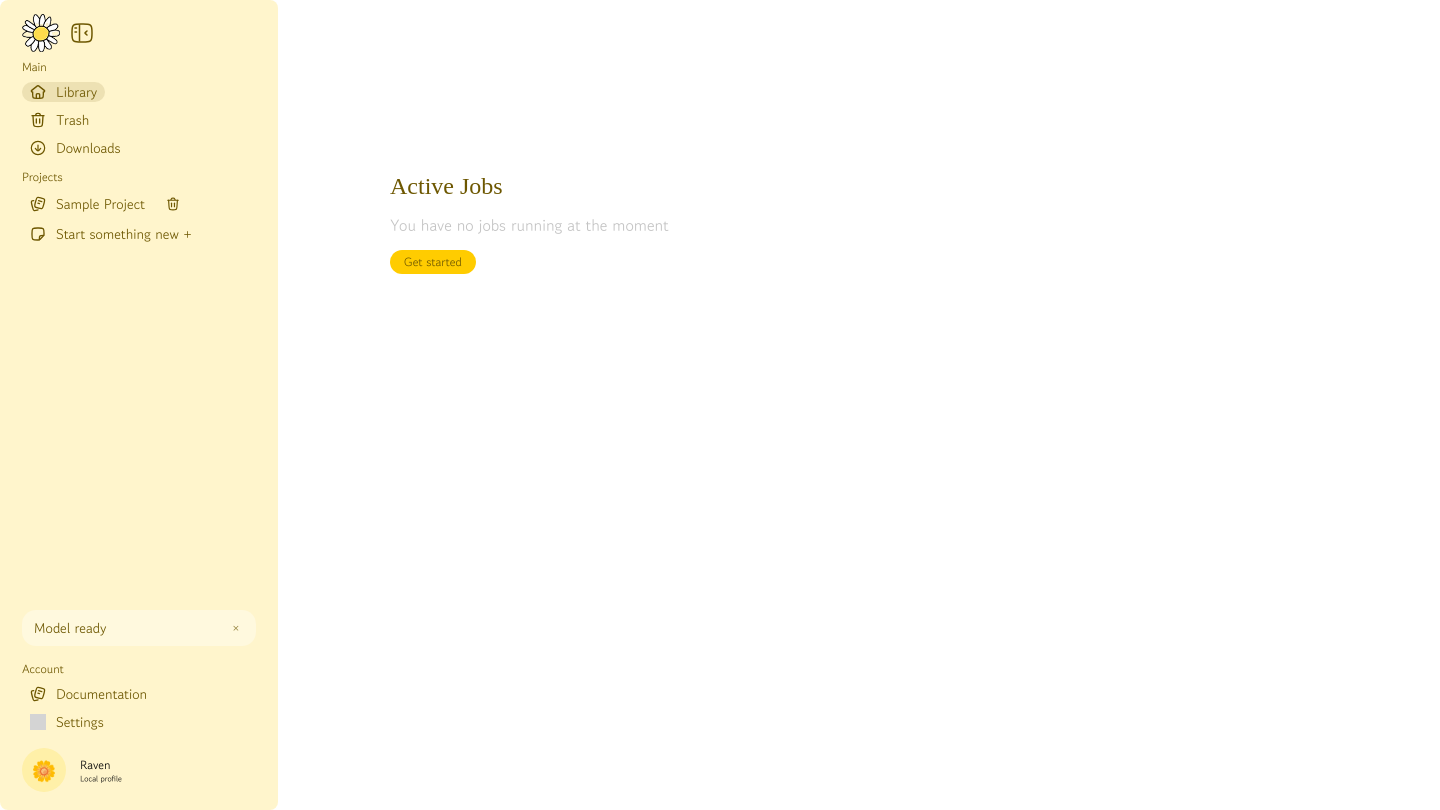
Create project flow › redirects to the project welcome upload route on success
Click the button "Get started" at (433, 262), box [390,250,476,274]
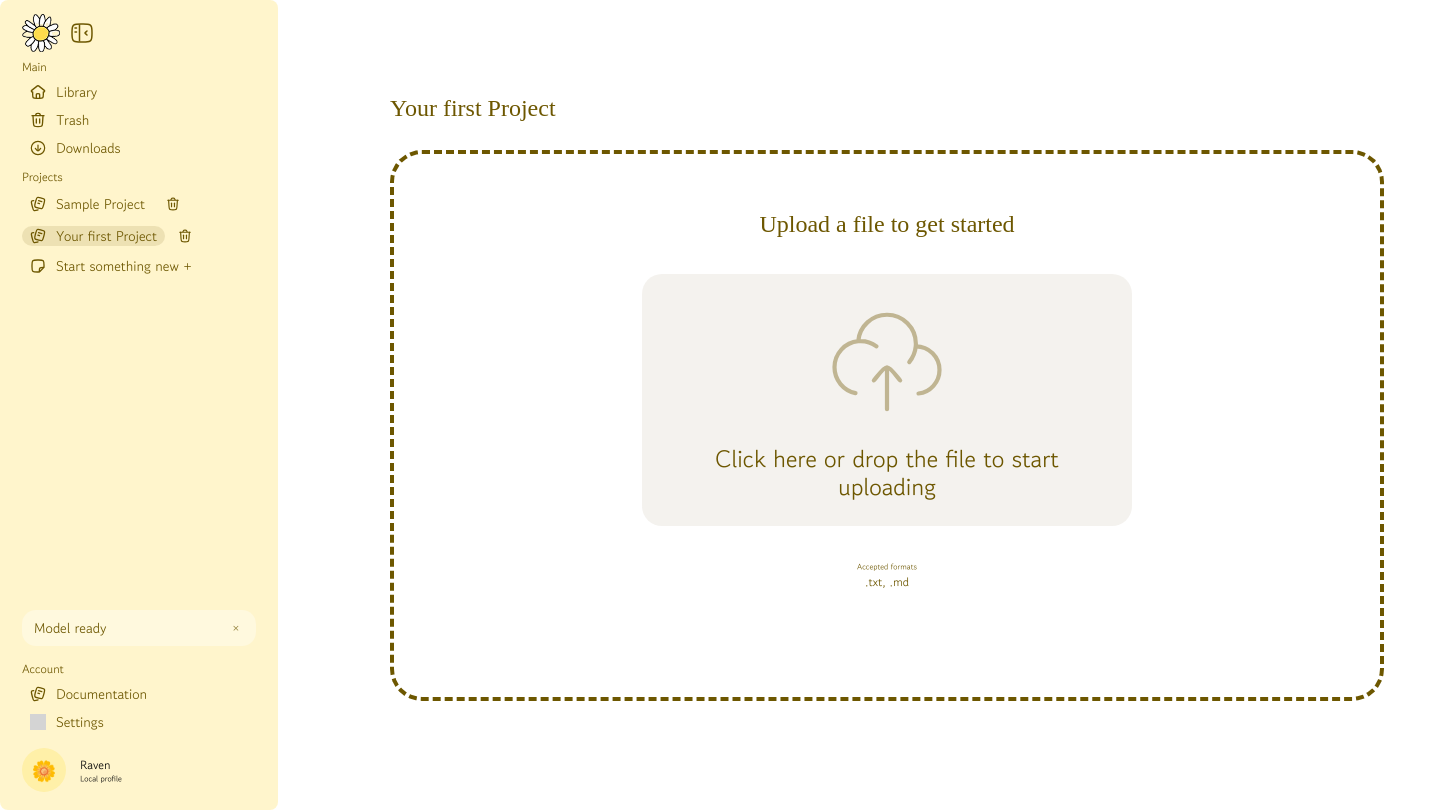
Expected: the heading "Upload a file to get started" is shown, [759,210,1015,238]
